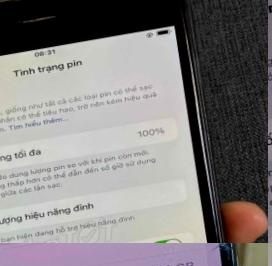physical_damage: (0, 243, 268, 266)
